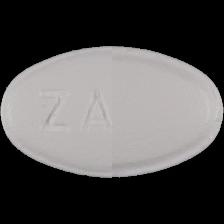68382-065: (0, 0, 224, 224)
